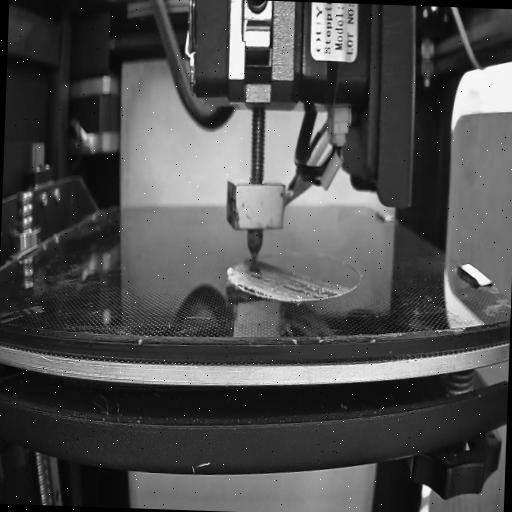under_extrusion: (282, 273, 344, 299), (236, 270, 272, 298)
